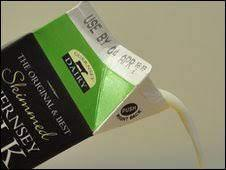cardboard: (0, 2, 164, 169)
